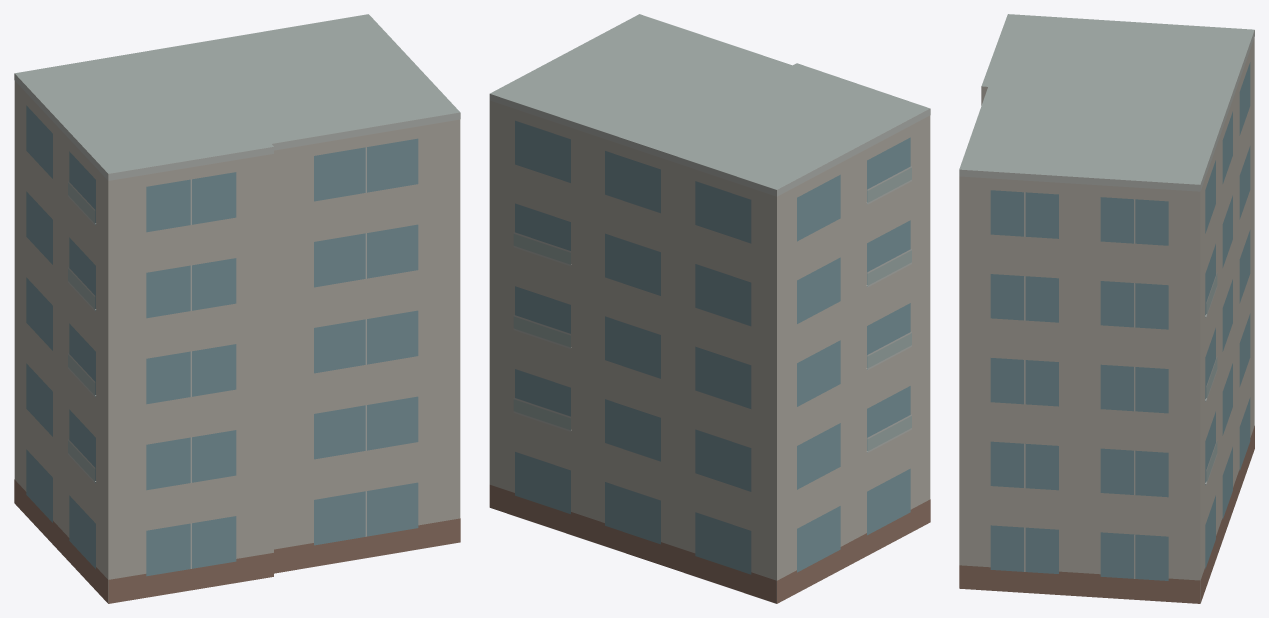
The model's file is survey-upis-32979378.glb.
3 views of the same model, side by side, from view 1: azimuth 30°, elevation 25°; view 2: azimuth 150°, elevation 25°; view 3: azimuth 270°, elevation 25° (orthographic). The views are drawn at different scales.
Visible parts, largest first — view 1: survey-upis-32979378.tmp; view 2: survey-upis-32979378.tmp; view 3: survey-upis-32979378.tmp.
Part boxes in pixels (x1=…): survey-upis-32979378.tmp: x1=14, y1=14, x2=460, y2=603; survey-upis-32979378.tmp: x1=489, y1=14, x2=930, y2=603; survey-upis-32979378.tmp: x1=959, y1=14, x2=1254, y2=603.
Bounding box in the file's own units: 13.08 × 14.95 × 9.57.
